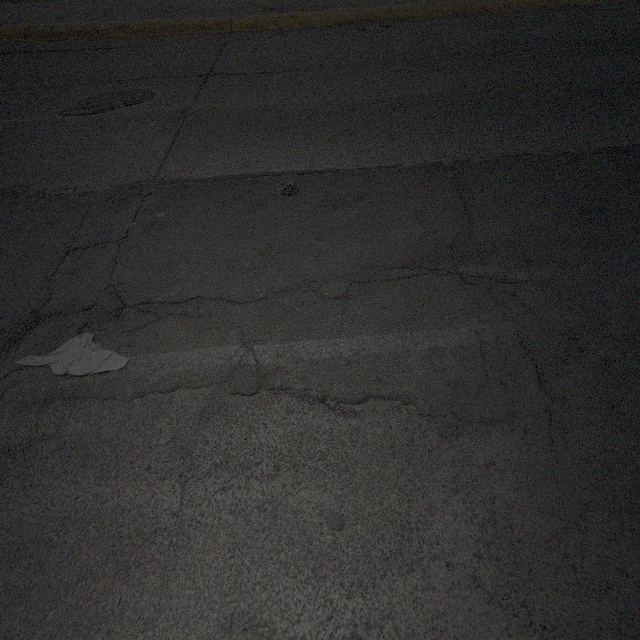pothole: (62, 243, 86, 264)
